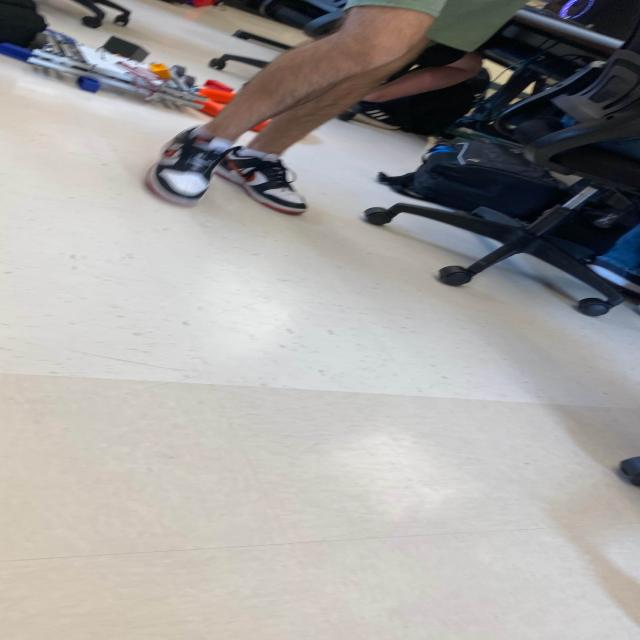blue-specimen: (0, 43, 32, 62), (76, 76, 101, 93)
red-specimen: (199, 79, 233, 92)
yellow-specimen: (149, 63, 170, 80)
